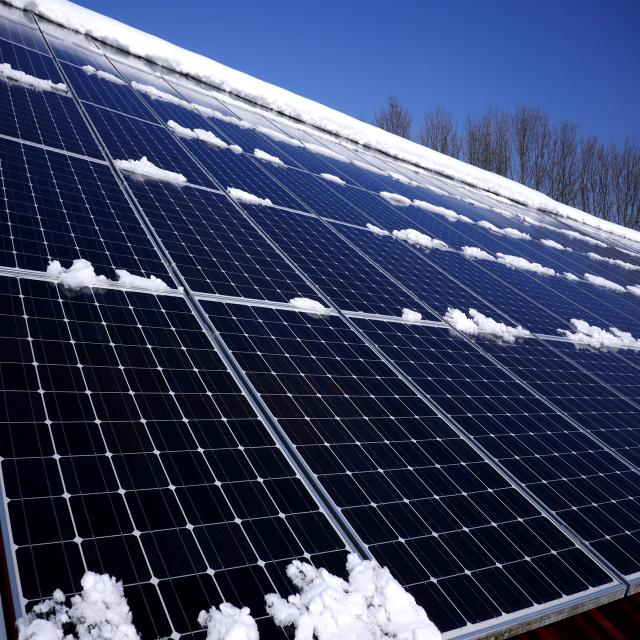panel: (258, 550, 452, 640), (6, 558, 136, 640), (248, 86, 356, 154), (458, 241, 580, 290), (436, 288, 532, 348), (115, 244, 189, 320), (162, 108, 248, 170), (370, 132, 453, 196), (28, 235, 106, 302), (379, 187, 478, 239), (117, 144, 208, 192), (5, 62, 86, 114), (278, 283, 354, 333), (352, 218, 450, 256), (558, 309, 640, 354), (74, 38, 132, 100), (189, 596, 261, 640), (562, 217, 628, 263), (6, 0, 67, 48), (488, 203, 546, 250), (146, 70, 200, 118), (220, 168, 276, 210), (585, 264, 640, 306), (253, 130, 300, 178), (394, 279, 414, 343), (317, 162, 354, 196)
